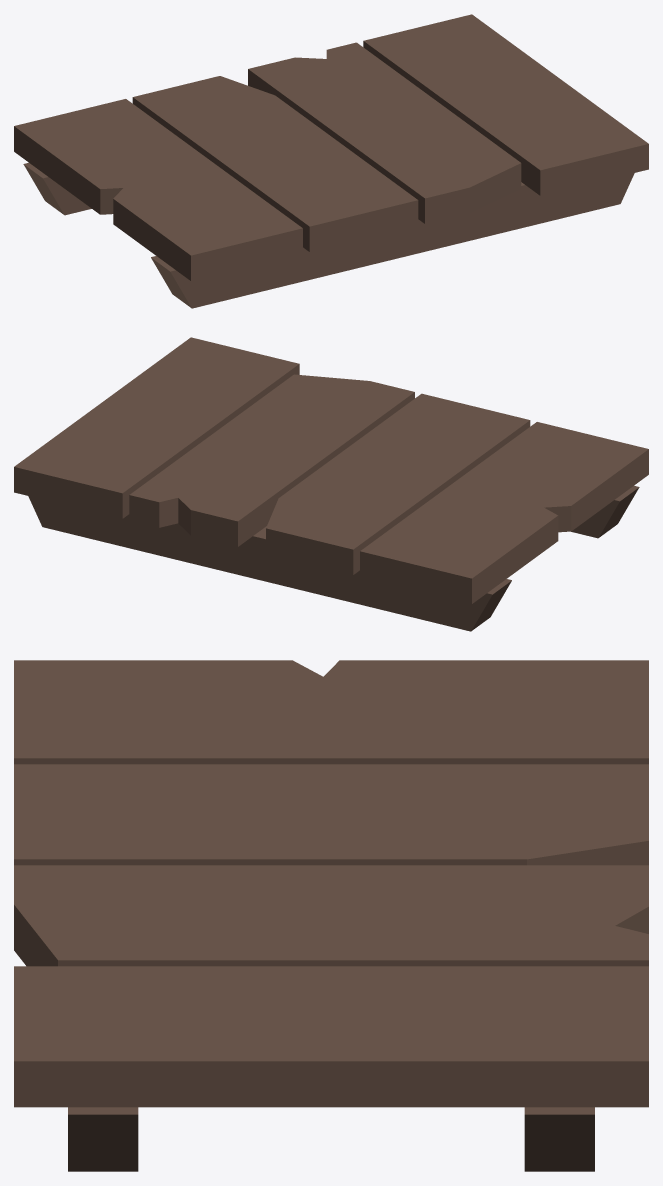
Rendered from FlatTable.fbx.
The picture shows the model from 3 angles, top to bottom: view 1: azimuth 30°, elevation 25°; view 2: azimuth 150°, elevation 25°; view 3: azimuth 270°, elevation 25°; orthographic projection. The views are drawn at different scales.
Visible parts, largest first — view 1: FlatTable; view 2: FlatTable; view 3: FlatTable.
Boxes of the visible parts, bbox=[...] form: FlatTable: bbox=[14, 14, 648, 308]; FlatTable: bbox=[14, 337, 648, 631]; FlatTable: bbox=[14, 660, 648, 1171].
Size of the model in its own units: 1.36 by 0.8803 by 0.1865.
